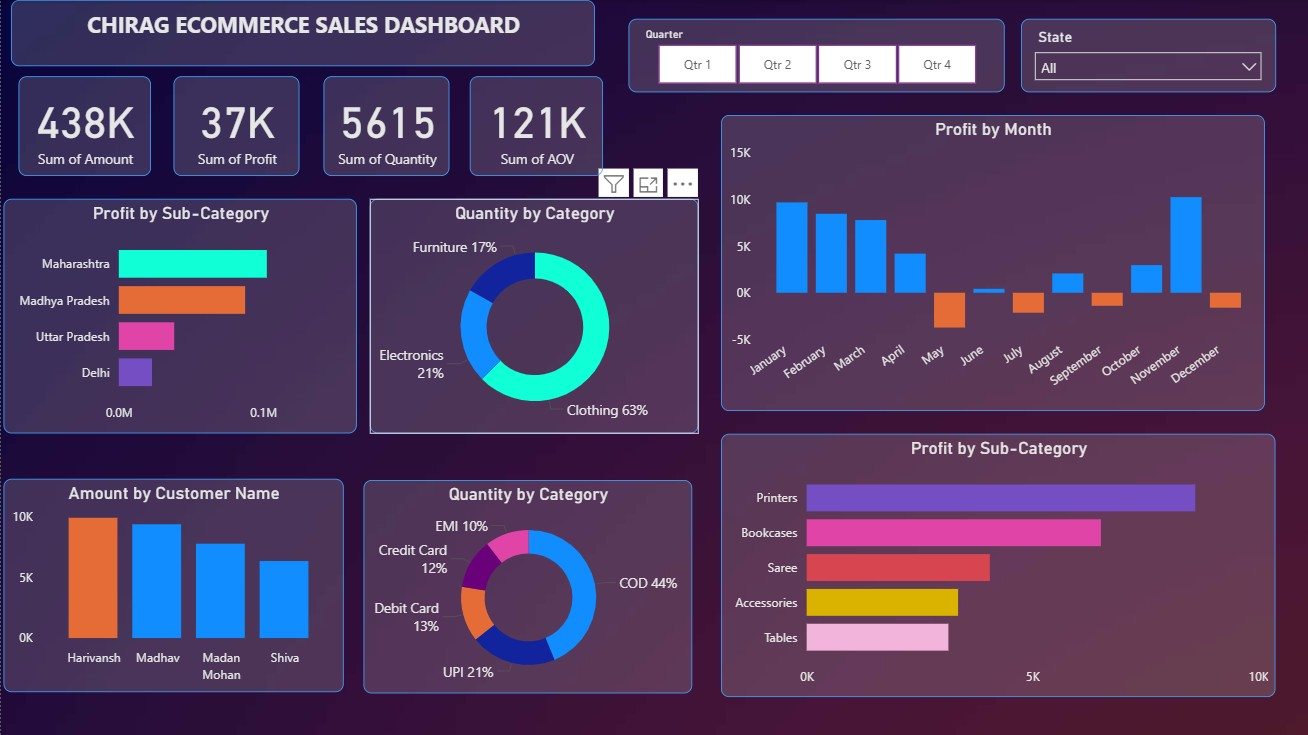

Layout of this report page (visuals, bound fields, positions):
{"tool":"powerbi","page":{"name":"Page 1","canvas":[1280,720],"ordinal":0},"visuals":[{"type":"textbox","box":[9.8,0,570.9,64.8],"z":0},{"type":"columnChart","title":"Profit by Month","fields":{"Y":["Sum(Details.Profit)"],"Category":["Orders.Order Date.Variation.Date Hierarchy.Month"]},"box":[704.1,112.5,531.7,289.7],"z":1000},{"type":"clusteredBarChart","title":"Profit by Sub-Category","fields":{"Category":["Details.Sub-Category"],"Y":["Sum(Details.Profit)"]},"box":[704.1,424.2,542.8,257.9],"z":2000},{"type":"donutChart","title":"Quantity by Category","fields":{"Category":["Details.Category"],"Y":["Sum(Details.Quantity)"]},"box":[360.6,194.4,321.5,229.8],"z":3000},{"type":"donutChart","title":"Quantity by Category","fields":{"Category":["Details.PaymentMode"],"Y":["Sum(Details.Quantity)"]},"box":[354.5,469.4,321.5,209],"z":4000},{"type":"card","fields":{"Values":["Sum(Details.Amount)"]},"box":[17.1,74.6,129.6,97.8],"z":5000},{"type":"card","fields":{"Values":["Sum(Details.Quantity)"]},"box":[315.4,74.6,123.5,97.8],"z":6000},{"type":"card","fields":{"Values":["Sum(Details.Profit)"]},"box":[168.7,74.6,123.5,97.8],"z":7000},{"type":"card","fields":{"Values":["Sum(Details.AOV)"]},"box":[458.4,74.6,130.8,97.8],"z":8000},{"type":"clusteredBarChart","title":"Profit by Sub-Category","fields":{"Category":["Orders.State"],"Y":["Sum(Details.Amount)"]},"box":[2.4,194.4,345.9,229.8],"z":9000},{"type":"columnChart","title":"Amount by Customer Name","fields":{"Category":["Orders.CustomerName"],"Y":["Sum(Details.Amount)"]},"box":[2.4,468.2,332.5,209],"z":10000},{"type":"slicer","fields":{"Values":["Orders.Order Date.Variation.Date Hierarchy.Quarter"]},"box":[613.7,18.3,367.9,72.1],"z":11000},{"type":"slicer","fields":{"Values":["Orders.State"]},"box":[997.5,18.3,249.4,72.1],"z":12000}]}

Visuals, with their boxes in screenshot pixels (x1, y1, x2, y2), scaled from the page's 1280x720 canvas onto the 1308x735 screenshot:
textbox: [10,0,593,66]
"Profit by Month" columnChart: [720,115,1263,411]
"Profit by Sub-Category" clusteredBarChart: [720,433,1274,696]
"Quantity by Category" donutChart: [368,198,697,433]
"Quantity by Category" donutChart: [362,479,691,693]
card - Sum(Details.Amount): [17,76,150,176]
card - Sum(Details.Quantity): [322,76,449,176]
card - Sum(Details.Profit): [172,76,299,176]
card - Sum(Details.AOV): [468,76,602,176]
"Profit by Sub-Category" clusteredBarChart: [2,198,356,433]
"Amount by Customer Name" columnChart: [2,478,342,691]
slicer - Orders.Order Date.Variation.Date Hierarchy.Quarter: [627,19,1003,92]
slicer - Orders.State: [1019,19,1274,92]
